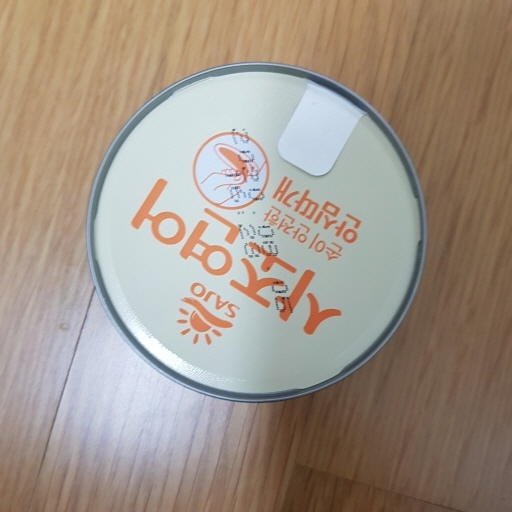Metal_1: (84, 63, 428, 405)
